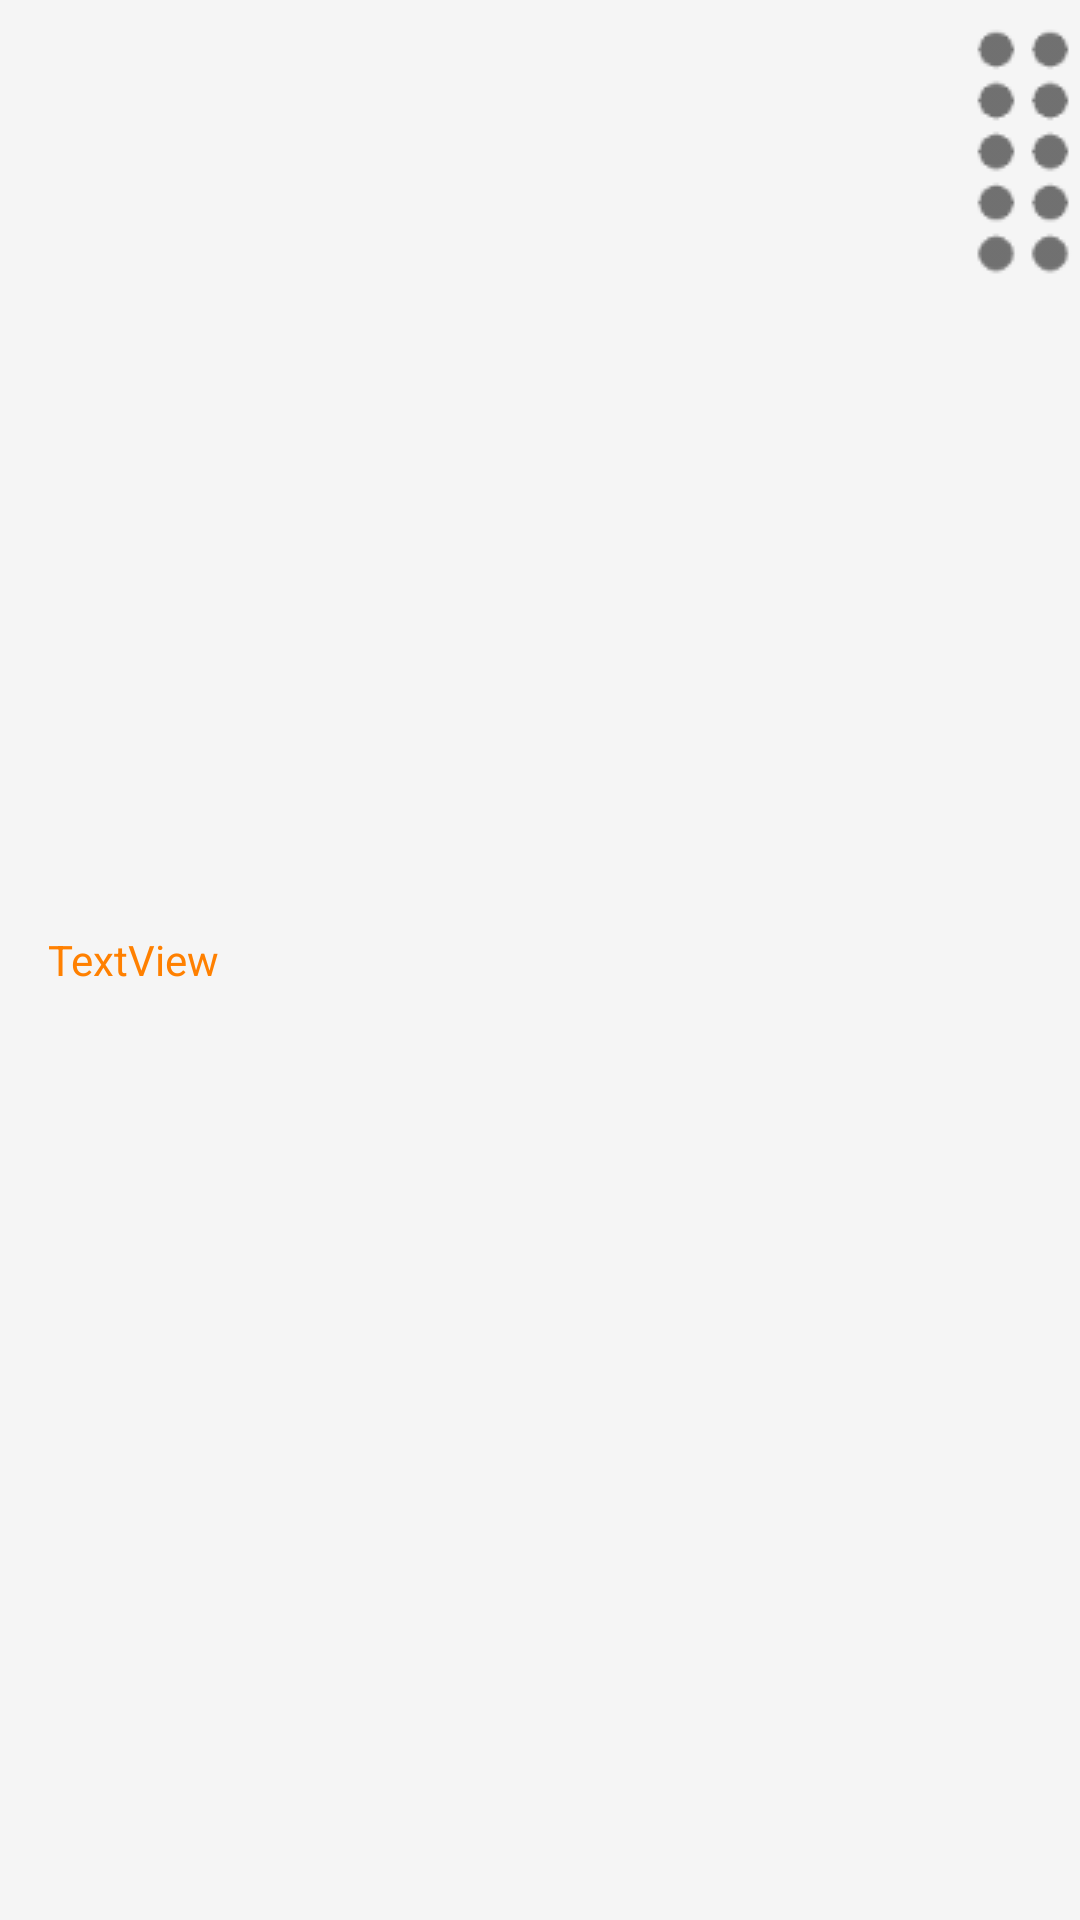

Named icons in this screenshot (1080×1920) and their centers, (x=x, y=y):
ten dots: (x=1023, y=152)
